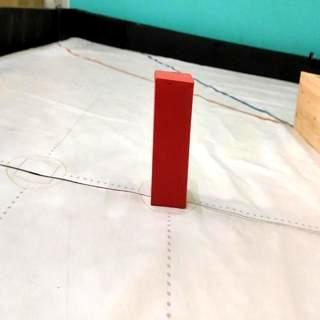redbox: (150, 70, 193, 208)
